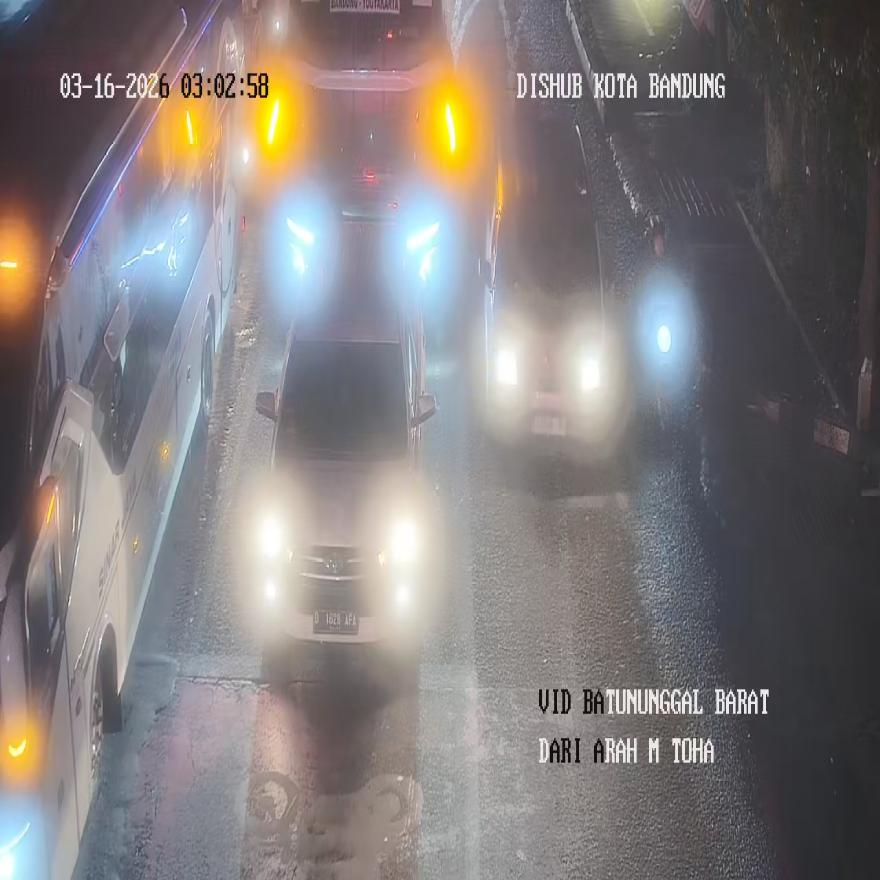Motor: (245, 198, 437, 664), (478, 118, 598, 426)
Truk: (644, 312, 682, 406)
